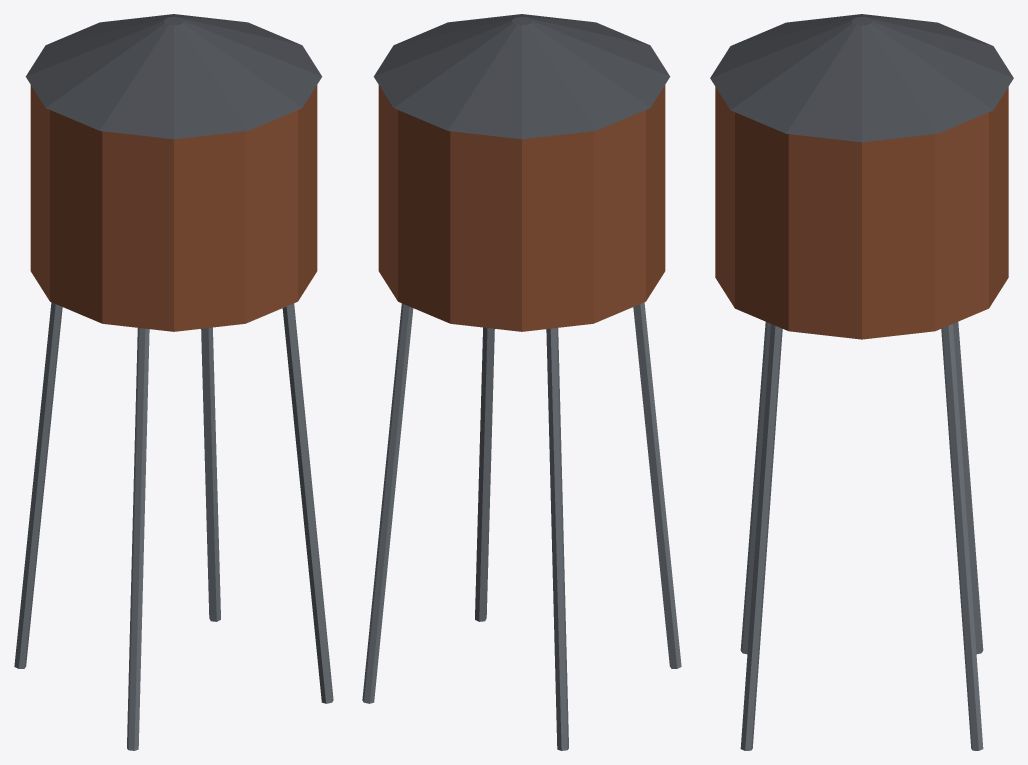
The model's file is water_tower.glb.
3 renders of one model, left to right at view 1: azimuth 30°, elevation 25°; view 2: azimuth 150°, elevation 25°; view 3: azimuth 270°, elevation 25°, orthographic. The views are drawn at different scales.
Parts seen in each view (by area): view 1: water_tower_Body; view 2: water_tower_Body; view 3: water_tower_Body.
Part boxes in pixels (left/top/right/bottom): water_tower_Body: left=14, top=14, right=333, bottom=750; water_tower_Body: left=362, top=14, right=681, bottom=750; water_tower_Body: left=710, top=14, right=1013, bottom=750.
Size of the model in its own units: 5.8 by 14.31 by 5.8.
